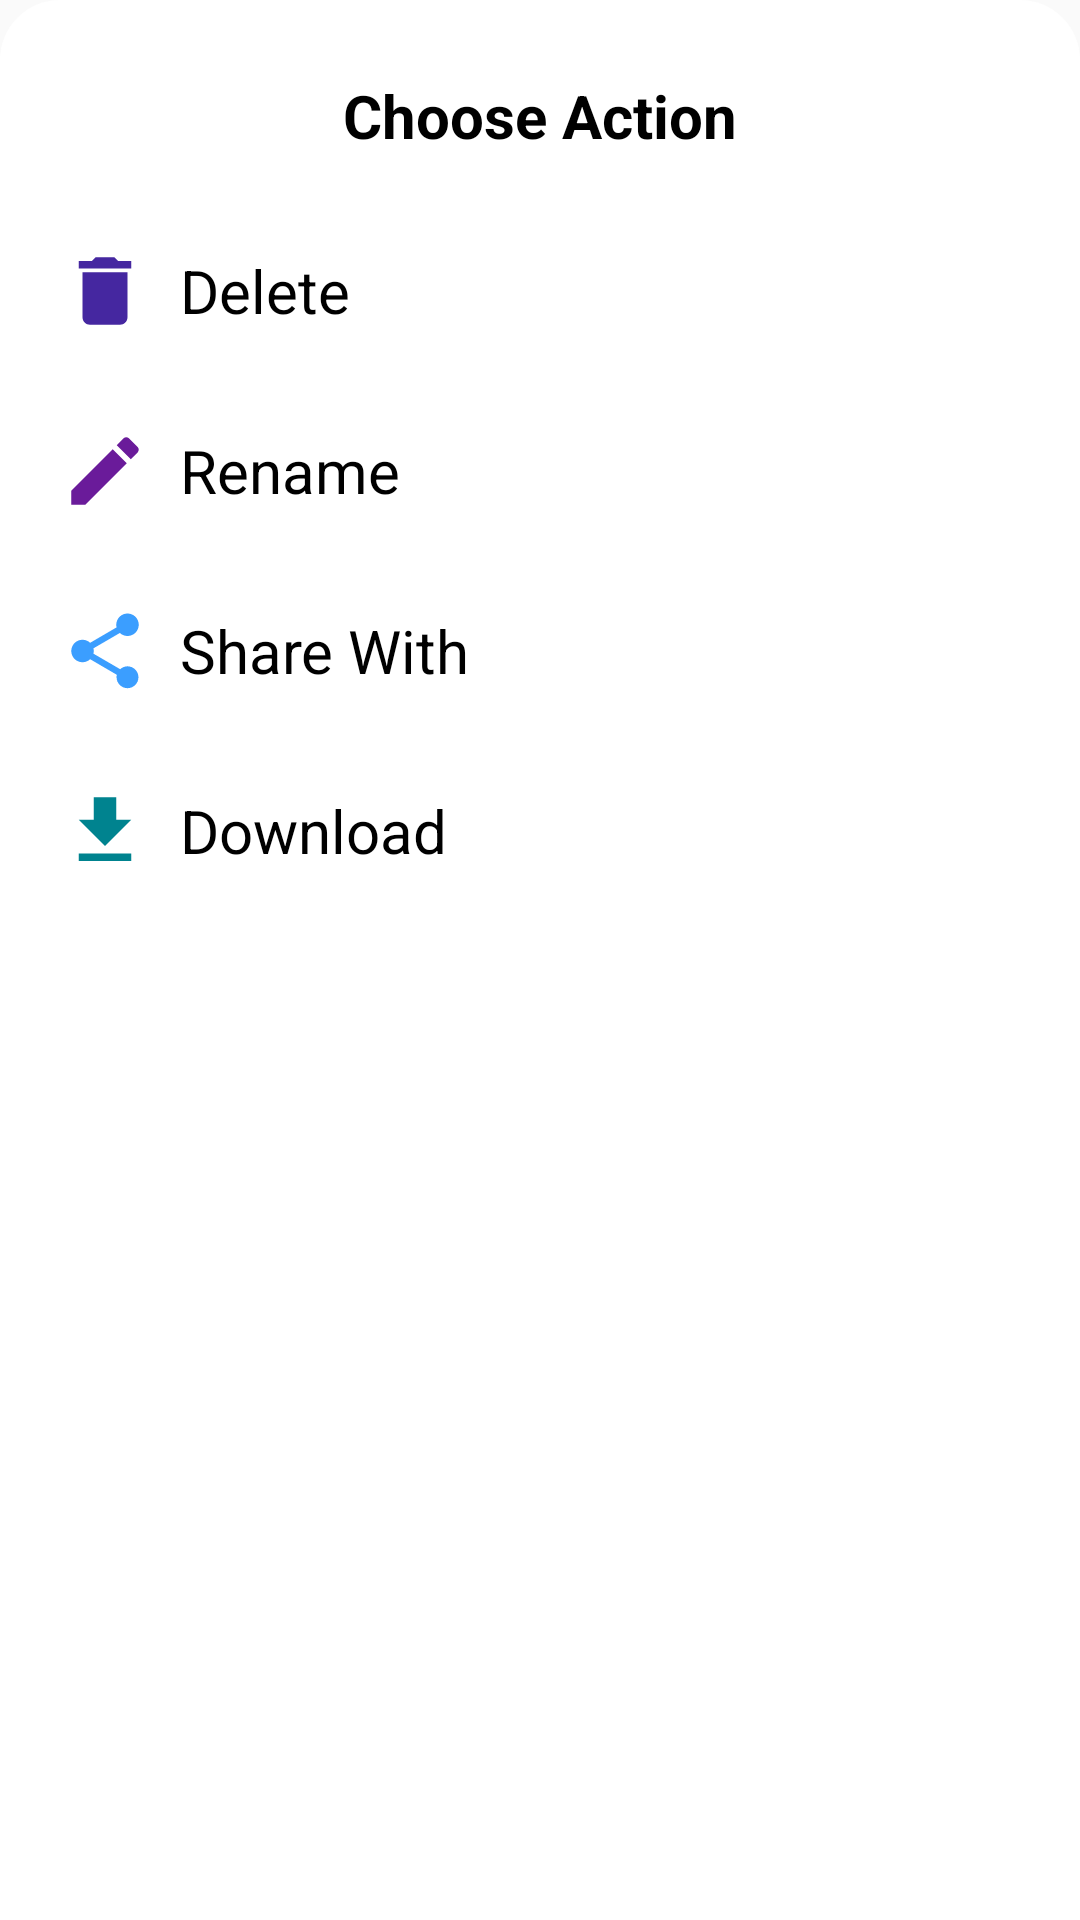

Where icons sit on this 1080×1920 app screen, as [x1=x1, y1=y1, x2=x2, y2=y2]:
mode edit: [x1=71, y1=437, x2=139, y2=505]
